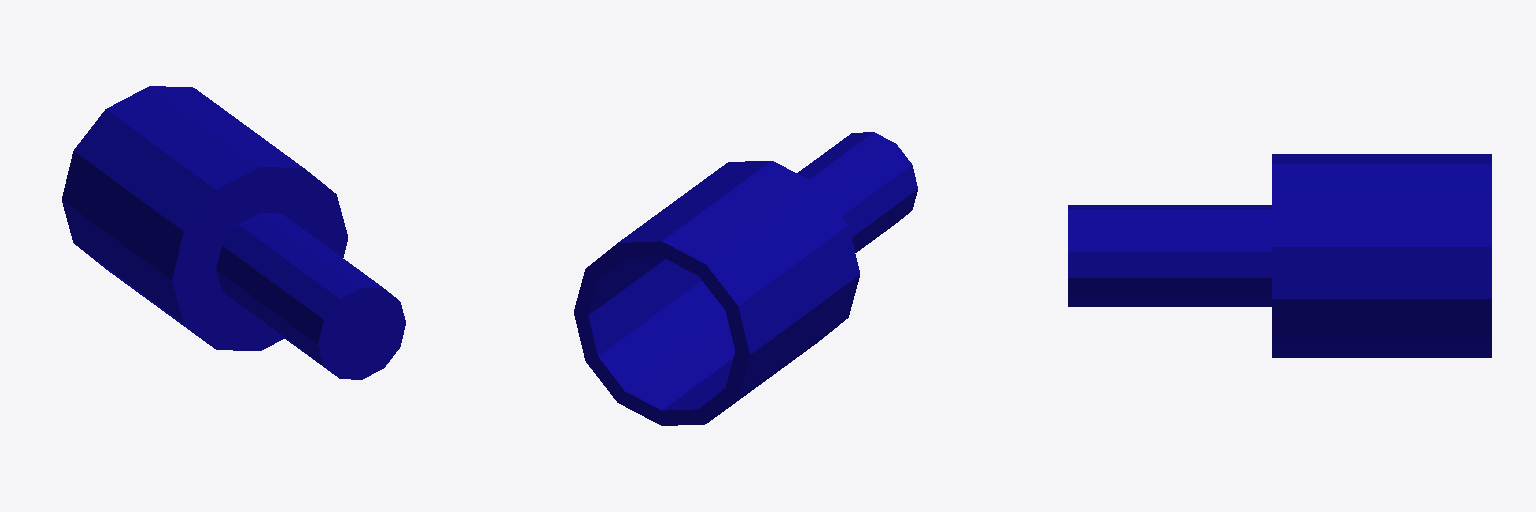
3 views of the same model, side by side, from view 1: azimuth 30°, elevation 25°; view 2: azimuth 150°, elevation 25°; view 3: azimuth 270°, elevation 25° (orthographic).
Parts seen in each view (by area): view 1: Cylinder.handle_Cylinder.003; view 2: Cylinder.handle_Cylinder.003; view 3: Cylinder.handle_Cylinder.003.
Part boxes in pixels (left/top/right/bottom): Cylinder.handle_Cylinder.003: left=62, top=86, right=405, bottom=379; Cylinder.handle_Cylinder.003: left=574, top=132, right=917, bottom=425; Cylinder.handle_Cylinder.003: left=1068, top=154, right=1491, bottom=357.
Bounding box in the file's own units: 0.06 × 0.06 × 0.125.